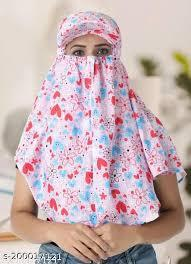scarf-kerchief: (31, 0, 153, 123)
